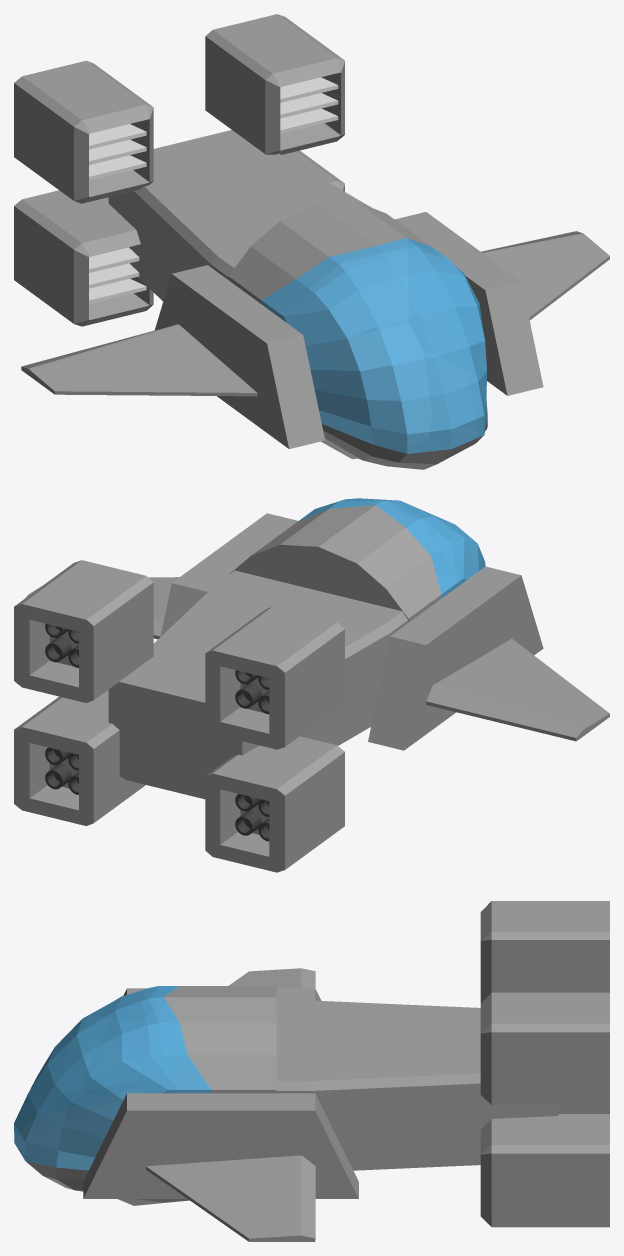
The model's file is space brigade star-ranger.glb.
3 renders of one model, top to bottom at view 1: azimuth 30°, elevation 25°; view 2: azimuth 150°, elevation 25°; view 3: azimuth 270°, elevation 25°, orthographic.
Parts seen in each view (by area): view 1: Cockpit, Engines, Wing Panels, Hull, Wings, Vents.001, Vents.003, Vents; view 2: Engines, Hull, Wing Panels, Cockpit, Wings, Thrusters.004, Thrusters.003, Thrusters.001, Thrusters.002; view 3: Engines, Hull, Cockpit, Wing Panels, Wings.
Boxes of the visible parts, x1,y1,x2,y2 form: Cockpit: [228, 202, 487, 469]; Engines: [14, 14, 344, 326]; Wing Panels: [154, 212, 543, 449]; Hull: [108, 130, 371, 301]; Wings: [21, 231, 609, 396]; Vents.001: [89, 77, 338, 304]; Vents.003: [89, 108, 338, 272]; Vents: [89, 93, 338, 288]; Engines: [14, 560, 344, 872]; Hull: [108, 570, 408, 799]; Wing Panels: [160, 513, 543, 750]; Cockpit: [229, 498, 485, 622]; Wings: [25, 577, 609, 741]; Thrusters.004: [45, 637, 269, 817]; Thrusters.003: [68, 645, 261, 811]; Thrusters.001: [45, 624, 269, 841]; Thrusters.002: [68, 629, 261, 835]; Engines: [480, 901, 609, 1227]; Hull: [276, 1000, 558, 1170]; Cockpit: [14, 986, 276, 1205]; Wing Panels: [83, 988, 358, 1198]; Wings: [146, 968, 315, 1241].
Size of the model in its own units: 21.86 by 8.81 by 20.6.
